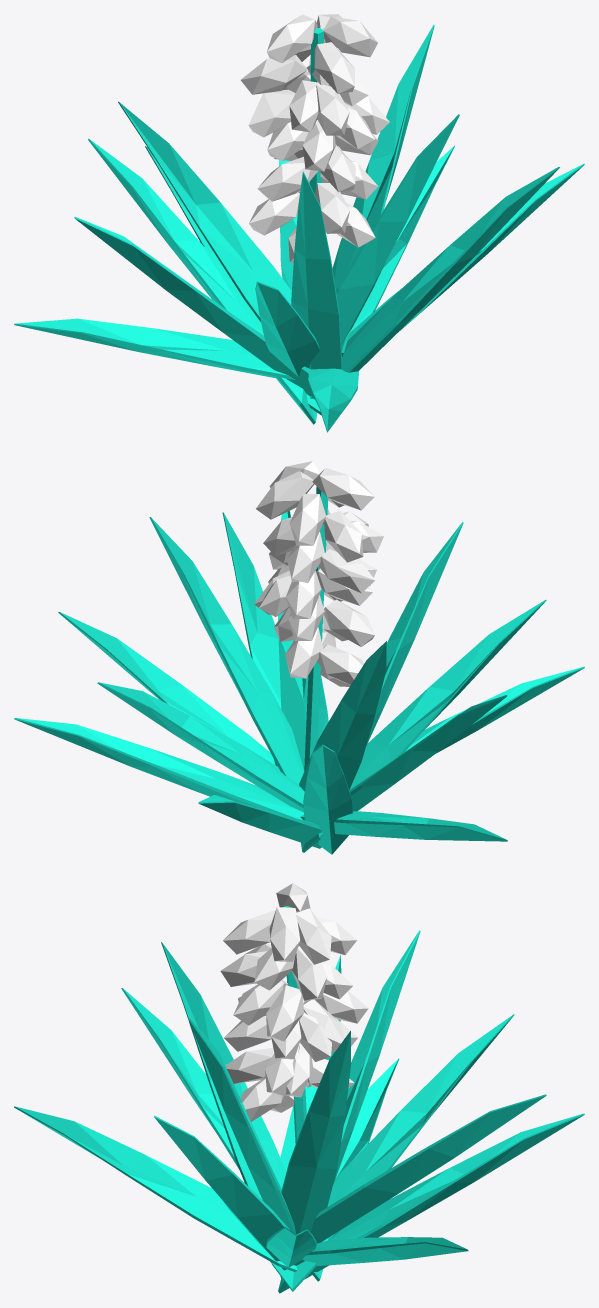
Rendered from Yucca_LOD0.fbx.
3 renders of one model, top to bottom at view 1: azimuth 30°, elevation 25°; view 2: azimuth 150°, elevation 25°; view 3: azimuth 270°, elevation 25°, orthographic. The views are drawn at different scales.
Parts seen in each view (by area): view 1: Yucca_LOD0; view 2: Yucca_LOD0; view 3: Yucca_LOD0.
Part boxes in pixels (x1,y1,x2,y2): Yucca_LOD0: (14,14,584,432); Yucca_LOD0: (14,461,584,854); Yucca_LOD0: (14,883,584,1293).
Bounding box in the file's own units: 183 × 140 × 188.
